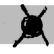not correct: (12, 3, 51, 50)
